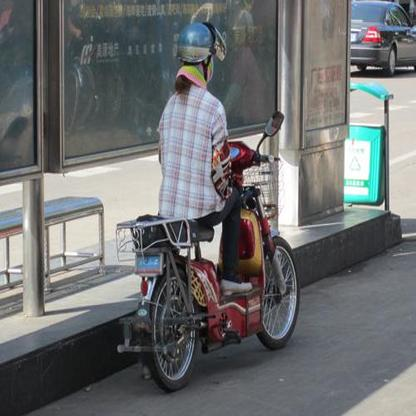target: (114, 22, 307, 394)
